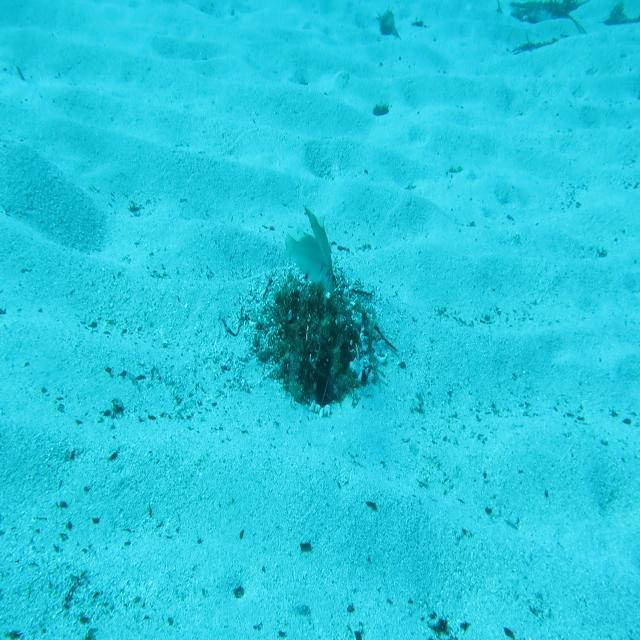H_DOWN: (294, 198, 340, 300)
female: (282, 216, 332, 287)
nest: (234, 259, 386, 418)
